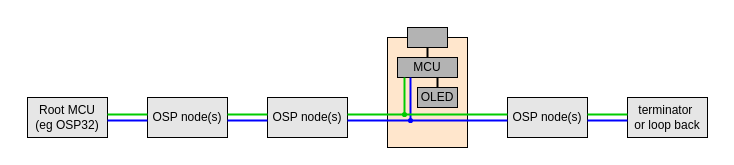
This 734x165 diagram has some shape labels left out. Each missing label, with the box of its shape:
OSPprobe: (386, 36, 468, 148)
USB: (406, 26, 448, 48)
